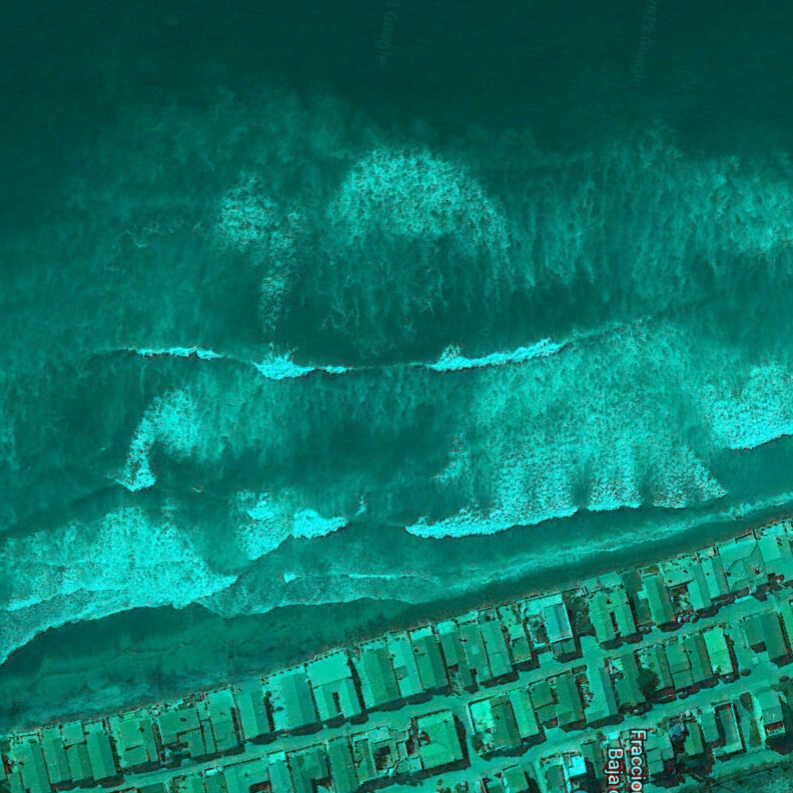rip_current: (270, 94, 481, 576)
